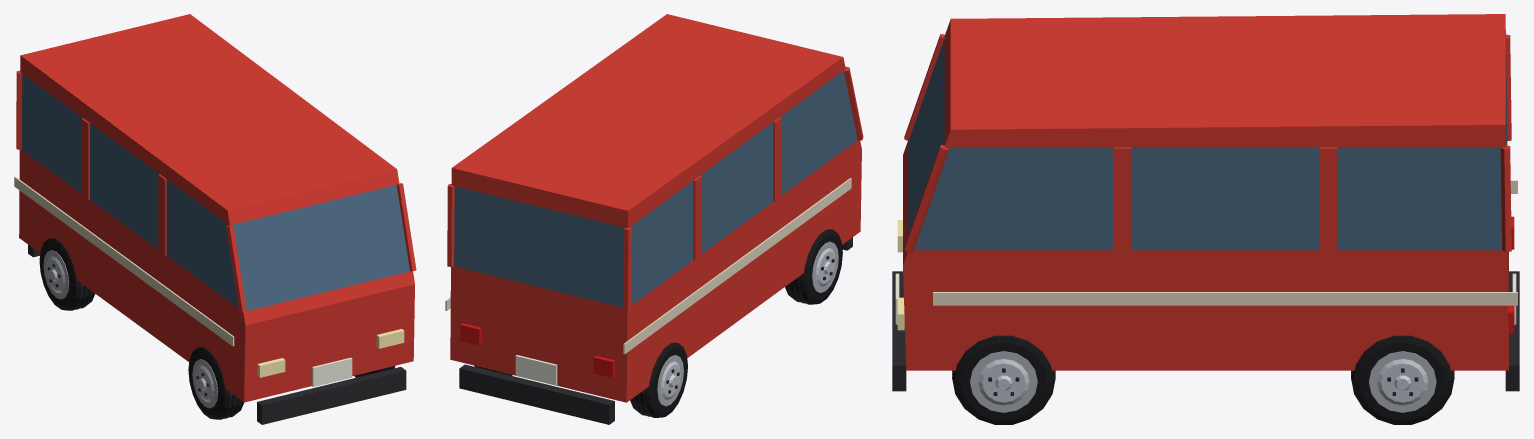
Rendered from vehicle_kei_van.glb.
The picture shows the model from 3 angles, left to right: view 1: azimuth 30°, elevation 25°; view 2: azimuth 150°, elevation 25°; view 3: azimuth 270°, elevation 25°; orthographic projection. The views are drawn at different scales.
Visible parts, largest first — view 1: kei_van_body, kei_van_wheel_rr, kei_van_wheel_fr; view 2: kei_van_body, kei_van_wheel_fr, kei_van_wheel_rr; view 3: kei_van_body, kei_van_wheel_rl, kei_van_wheel_fl.
Part boxes in pixels (x1,y1,x2,y2): kei_van_body: (14,14,416,424); kei_van_wheel_rr: (39,238,94,310); kei_van_wheel_fr: (188,347,243,419); kei_van_body: (445,14,863,424); kei_van_wheel_fr: (785,229,842,304); kei_van_wheel_rr: (630,342,687,417); kei_van_body: (892,14,1519,391); kei_van_wheel_rl: (1351,335,1454,424); kei_van_wheel_fl: (952,335,1055,424).
Size of the model in its own units: 1.59 by 1.88 by 3.54.
